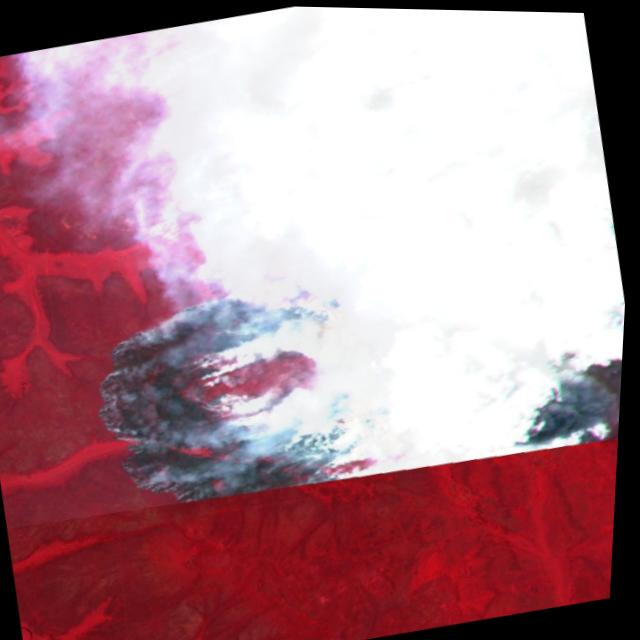fire: (70, 253, 424, 525)
